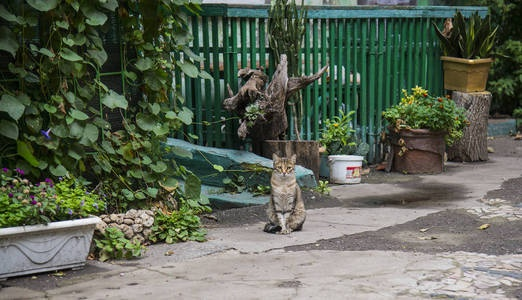cat: (265, 153, 306, 235)
